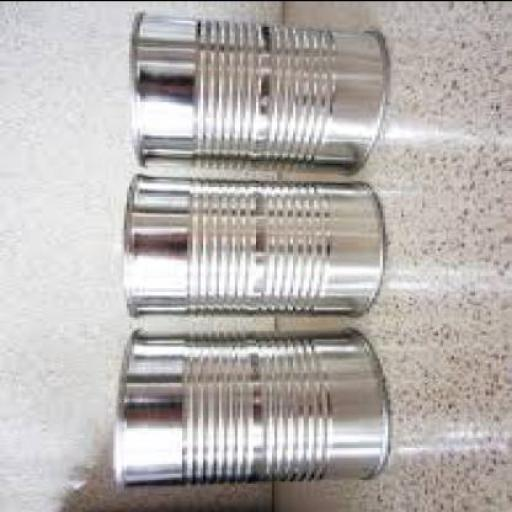metal: (110, 330, 391, 495), (129, 12, 385, 174), (122, 182, 383, 318)
